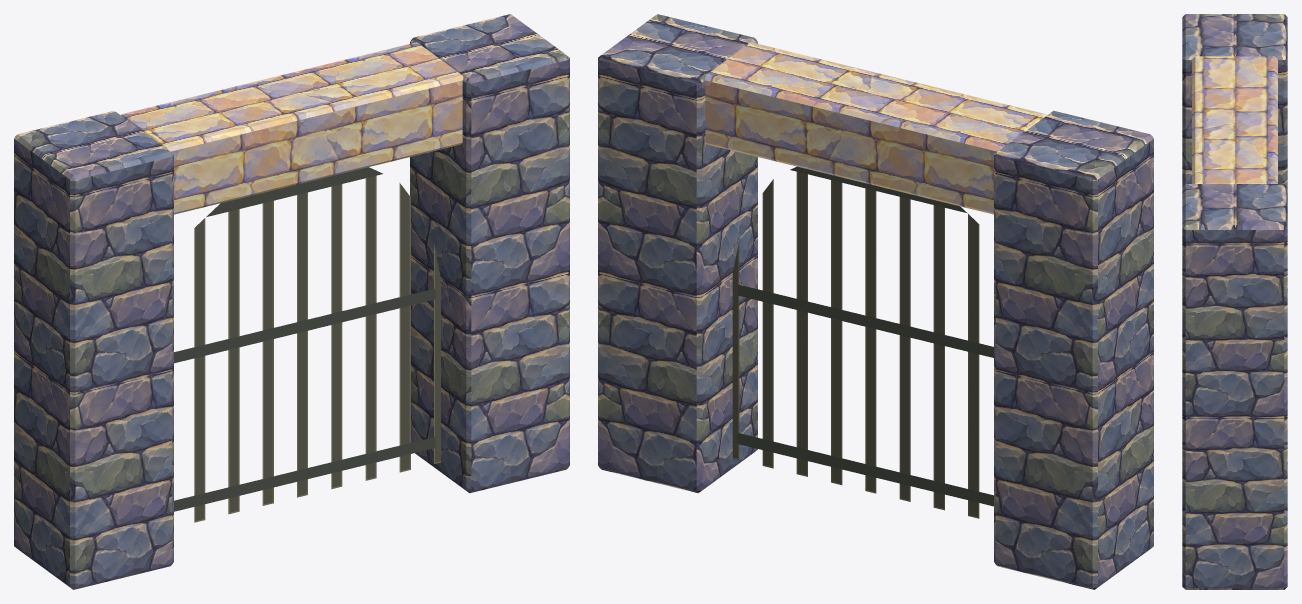
The model's file is Granite_Gate.fbx.
3 views of the same model, side by side, from view 1: azimuth 30°, elevation 25°; view 2: azimuth 150°, elevation 25°; view 3: azimuth 270°, elevation 25° (orthographic). The views are drawn at different scales.
Visible parts, largest first — view 1: Granite_Gate.001; view 2: Granite_Gate.001; view 3: Granite_Gate.001.
Boxes of the visible parts, left/top/right/bottom form: Granite_Gate.001: left=14, top=14, right=569, bottom=589; Granite_Gate.001: left=598, top=14, right=1153, bottom=589; Granite_Gate.001: left=1182, top=14, right=1287, bottom=589.
Size of the model in its own units: 530 by 420 by 110.
3 materials, 3 textured.
